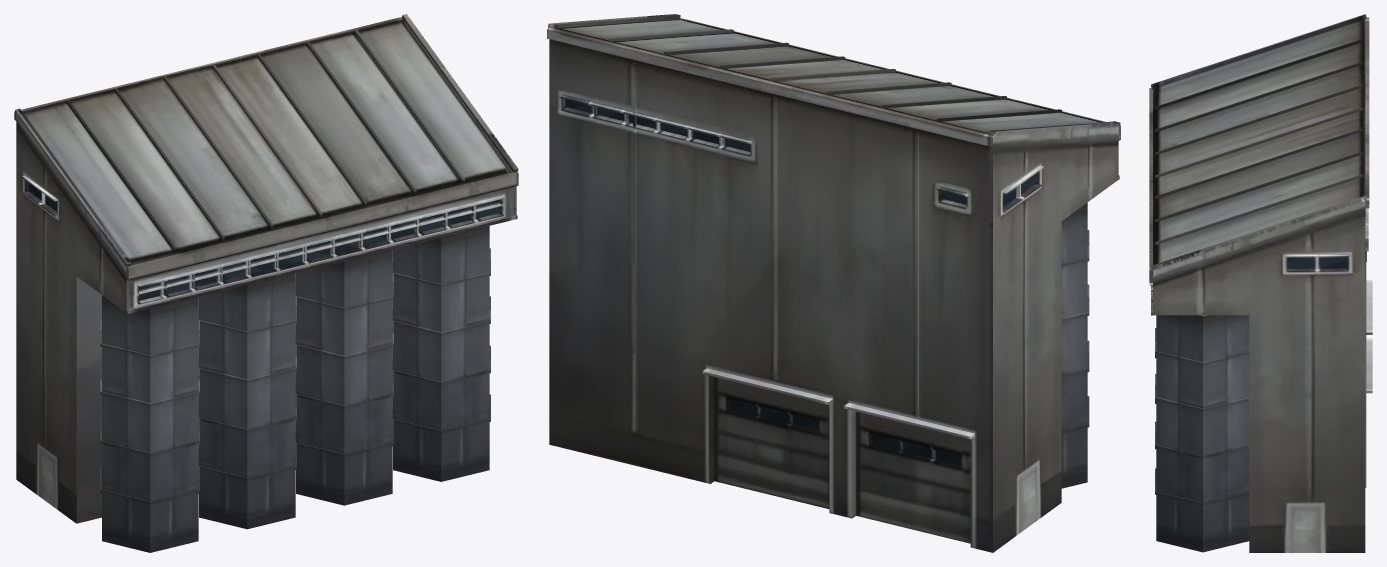
Rendered from grainstorage_cad.glb.
3 renders of one model, left to right at view 1: azimuth 30°, elevation 25°; view 2: azimuth 150°, elevation 25°; view 3: azimuth 270°, elevation 25°, orthographic. The views are drawn at different scales.
Parts seen in each view (by area): view 1: GrainStorage; view 2: GrainStorage; view 3: GrainStorage.
Part boxes in pixels (x1,y1,x2,y2): GrainStorage: [14, 14, 518, 552]; GrainStorage: [547, 14, 1120, 552]; GrainStorage: [1149, 14, 1372, 552].
Size of the model in its own units: 17.12 by 15.28 by 8.7.
1 material, 1 textured.
